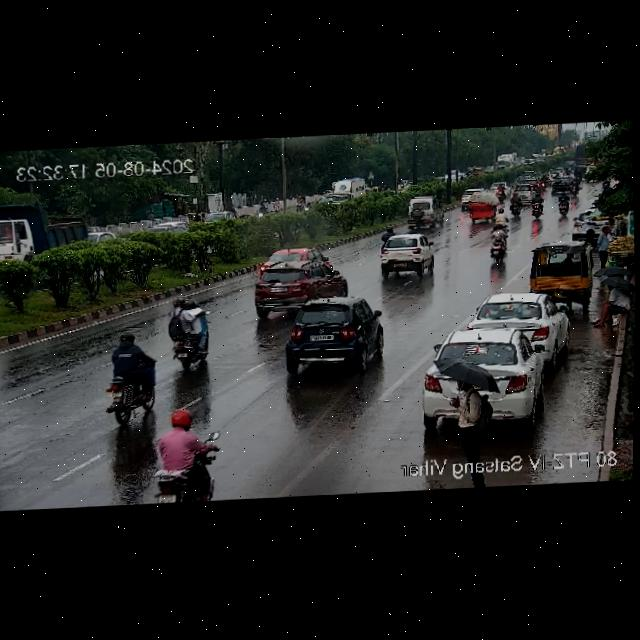car: (415, 326, 555, 431), (282, 295, 383, 370), (471, 291, 568, 352), (249, 260, 348, 312), (523, 241, 592, 302), (377, 231, 435, 274), (261, 247, 323, 274), (466, 187, 501, 225), (402, 198, 440, 228), (544, 175, 581, 195)
motorcycle: (100, 333, 163, 424), (153, 409, 209, 503), (166, 300, 214, 367), (482, 222, 510, 262), (524, 192, 549, 219), (554, 192, 573, 218), (506, 194, 527, 215)
person: (440, 371, 493, 452), (593, 280, 630, 323), (591, 224, 618, 264)
truck: (0, 200, 91, 277), (327, 178, 366, 206)
